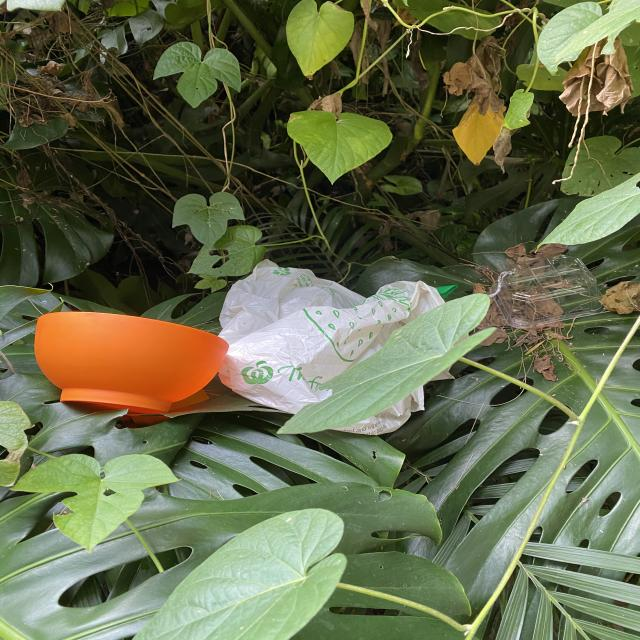bag: (219, 260, 451, 435)
bowl: (35, 312, 229, 414)
cup: (489, 255, 607, 328)
